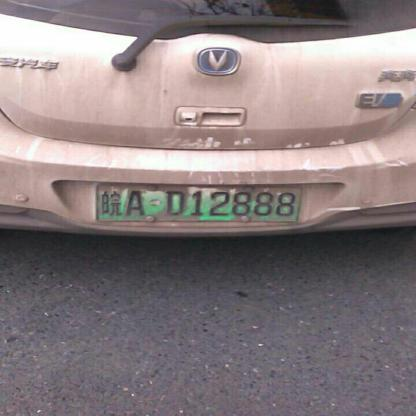lp: (97, 184, 299, 219)
